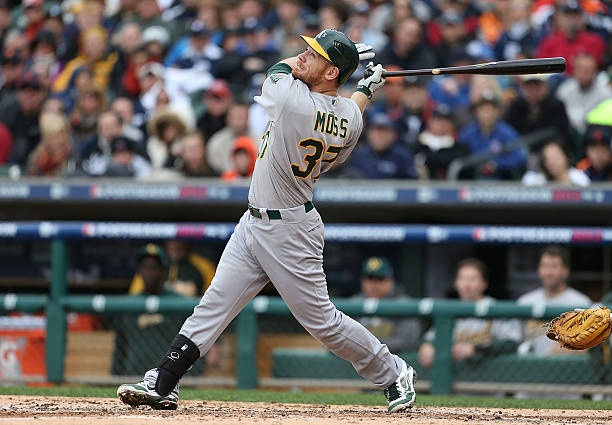bita: (369, 54, 567, 87)
